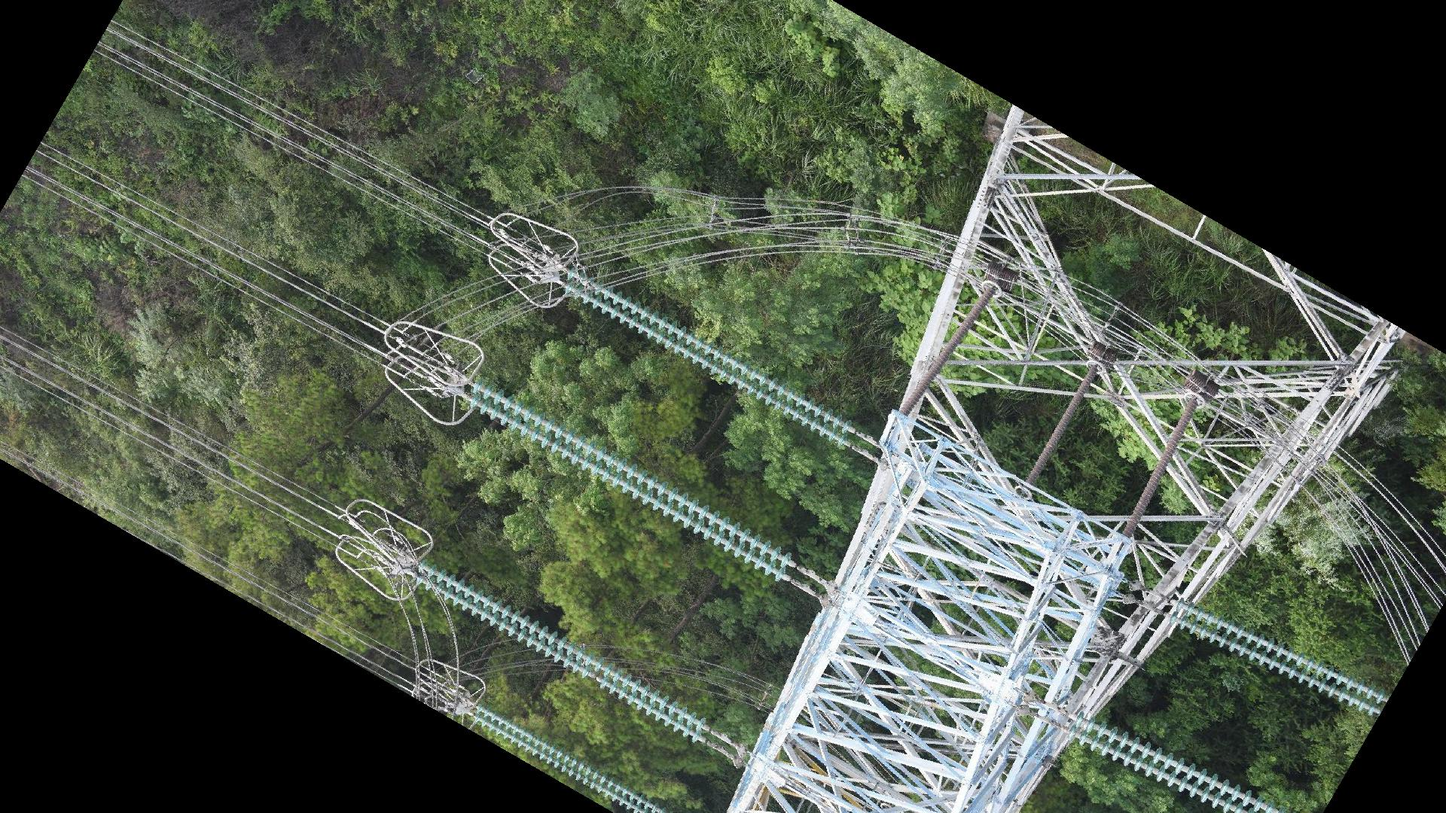insulator: (466, 377, 795, 587), (416, 557, 710, 748), (566, 269, 856, 448), (1168, 595, 1390, 720), (1066, 708, 1283, 813), (471, 702, 666, 813), (897, 285, 997, 415), (1120, 396, 1200, 539), (1024, 363, 1101, 485)
insulator_stringdrop: (580, 662, 612, 691)
